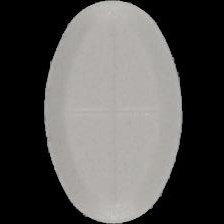10544-890: (0, 0, 224, 224)
